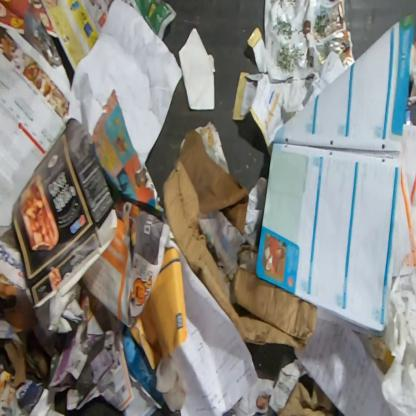cardboard: (161, 128, 318, 351), (13, 116, 118, 312), (46, 312, 118, 397), (2, 340, 50, 388), (277, 378, 336, 416), (237, 243, 259, 275)
